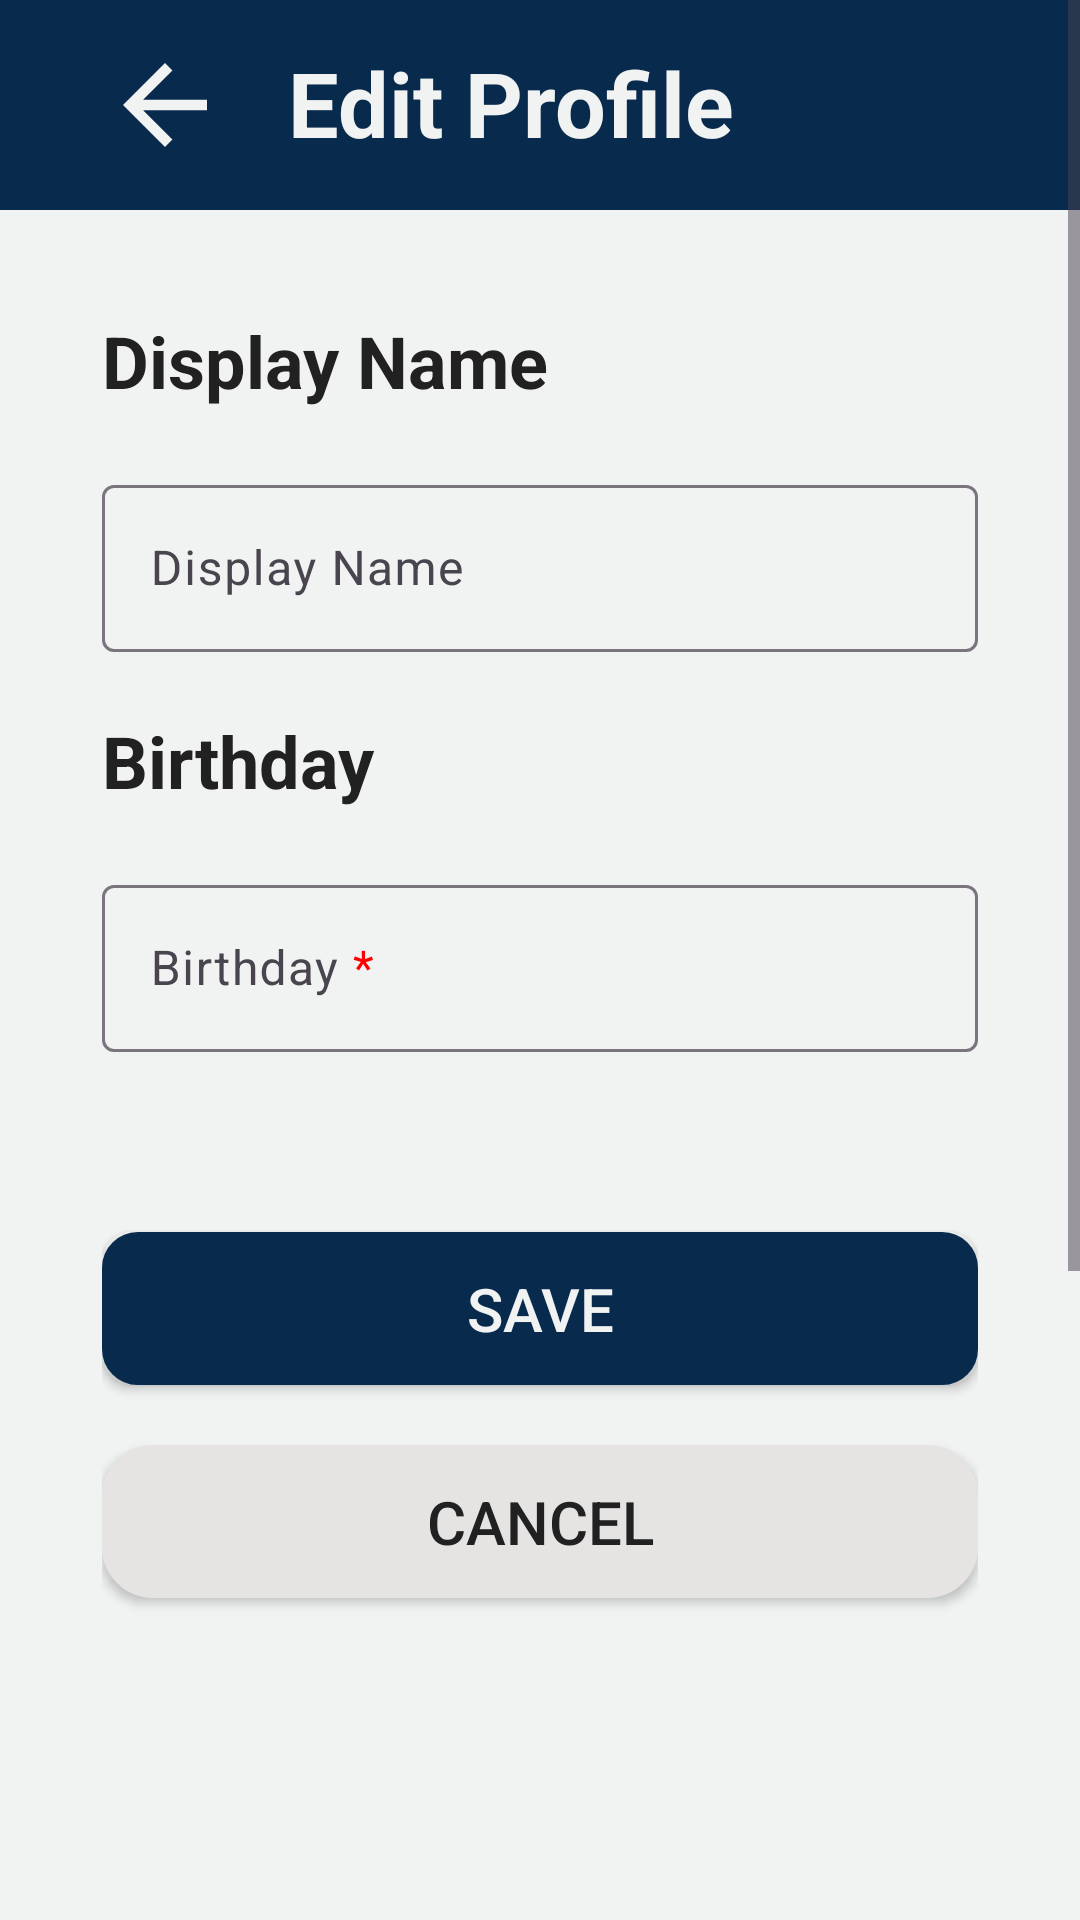

Point at icon controls on the screen. Image size 1080*1920, points as point (x, y).
back: point (165, 105)
